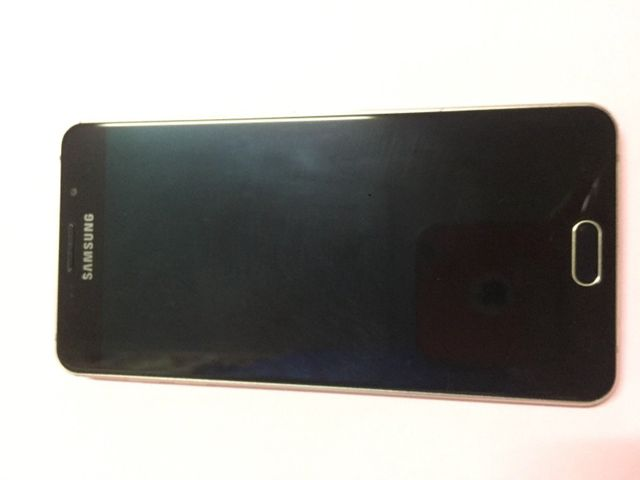Phone: (55, 98, 622, 416)
